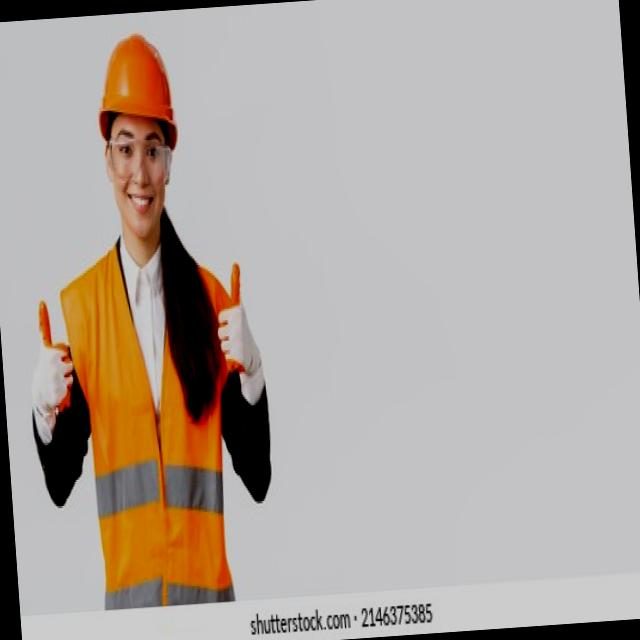goggles: (104, 136, 174, 186)
helmet: (88, 23, 180, 160)
vest: (52, 240, 255, 614)
